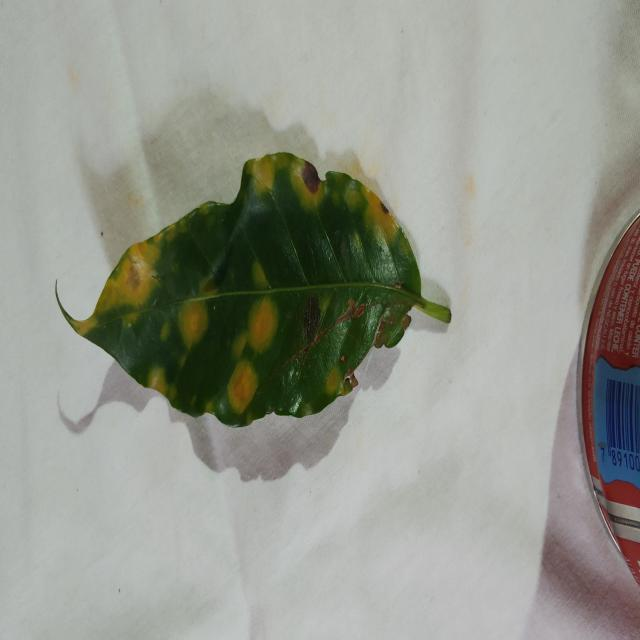Enfermedad-Roya: (55, 152, 452, 432)
